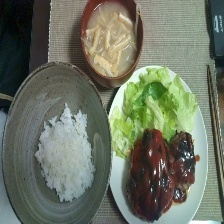rice: (33, 104, 97, 202)
